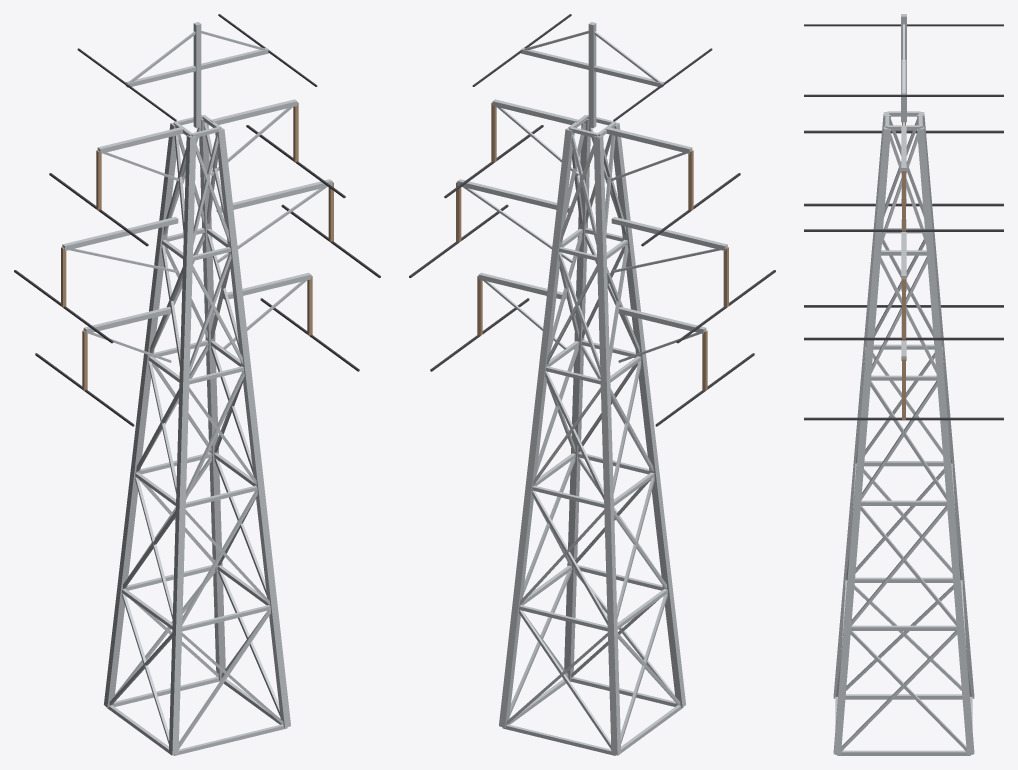
File: tower.glb
3 renders of one model, left to right at view 1: azimuth 30°, elevation 25°; view 2: azimuth 150°, elevation 25°; view 3: azimuth 270°, elevation 25°, orthographic. The views are drawn at different scales.
Parts seen in each view (by area): view 1: OHTL tower; view 2: OHTL tower; view 3: OHTL tower.
Boxes of the visible parts, x1=… form: OHTL tower: x1=14, y1=14, x2=380, y2=755; OHTL tower: x1=409, y1=14, x2=775, y2=755; OHTL tower: x1=804, y1=14, x2=1003, y2=755.
Size of the model in its own units: 0.3848 by 0.9424 by 0.24.
